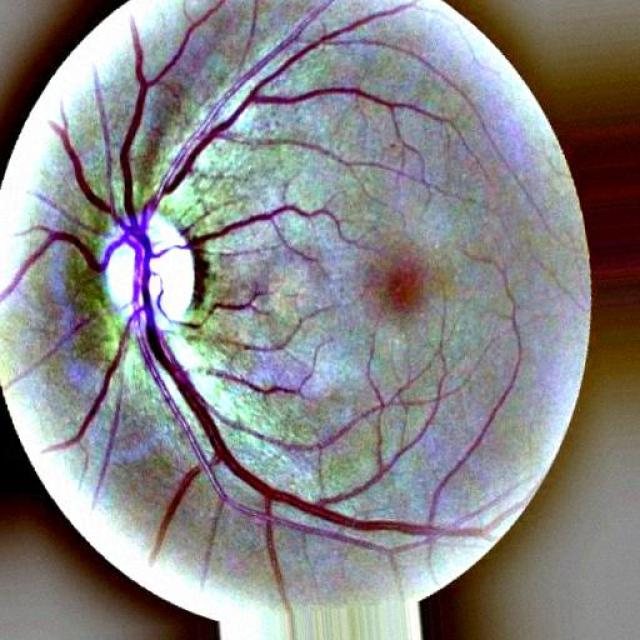Macula: (362, 248, 445, 329)
Nerves: (10, 4, 498, 626)
Optic Disk: (77, 201, 231, 353)
